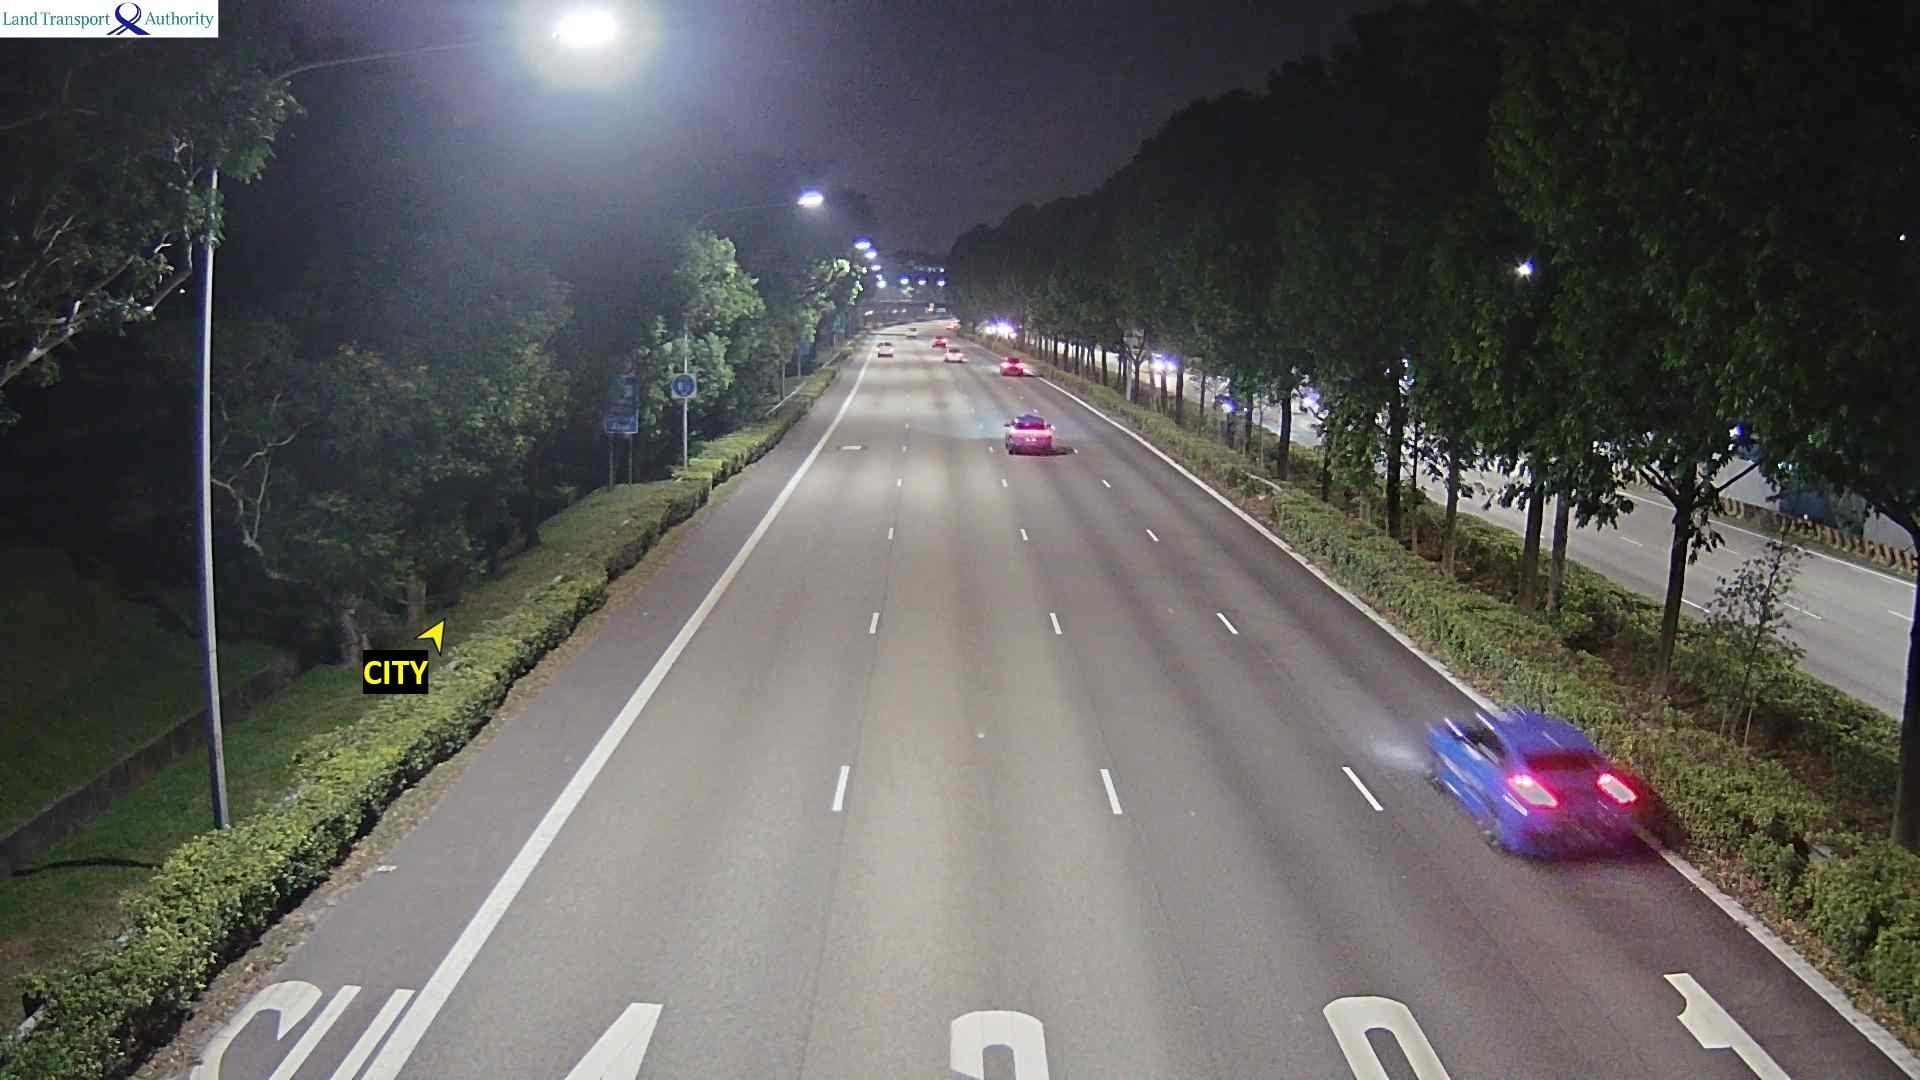cars: (1423, 702, 1666, 862), (1002, 410, 1054, 454), (998, 355, 1026, 375), (943, 345, 966, 362), (875, 341, 893, 357), (931, 334, 947, 348), (906, 326, 918, 338)
